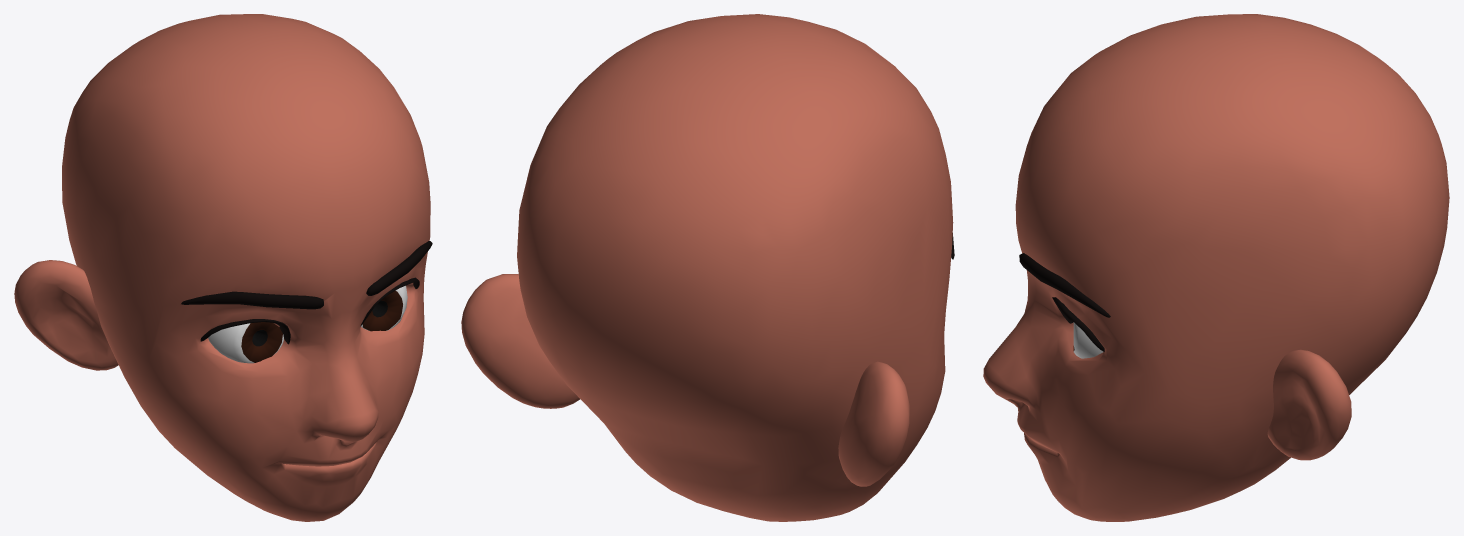
3 views of the same model, side by side, from view 1: azimuth 30°, elevation 25°; view 2: azimuth 150°, elevation 25°; view 3: azimuth 270°, elevation 25° (orthographic). The views are drawn at different scales.
Parts seen in each view (by area): view 1: skin.001, ears.001, brows.001, eyes.002, eyes.003; view 2: skin.001, ears.001; view 3: skin.001, ears.001, brows.001, eyes.003.
Part boxes in pixels (x1=…): skin.001: x1=62, y1=14, x2=430, y2=521; ears.001: x1=14, y1=260, x2=118, y2=370; brows.001: x1=181, y1=241, x2=432, y2=344; eyes.002: x1=208, y1=322, x2=283, y2=363; eyes.003: x1=361, y1=285, x2=407, y2=331; skin.001: x1=517, y1=14, x2=953, y2=521; ears.001: x1=461, y1=274, x2=909, y2=486; skin.001: x1=983, y1=14, x2=1449, y2=521; ears.001: x1=1267, y1=349, x2=1351, y2=460; brows.001: x1=1019, y1=253, x2=1110, y2=351; eyes.003: x1=1073, y1=322, x2=1103, y2=358.
Size of the model in its own units: 1.81 by 2 by 1.78.
